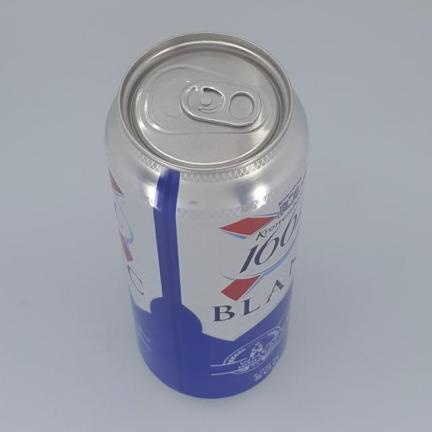can: (105, 33, 308, 397)
